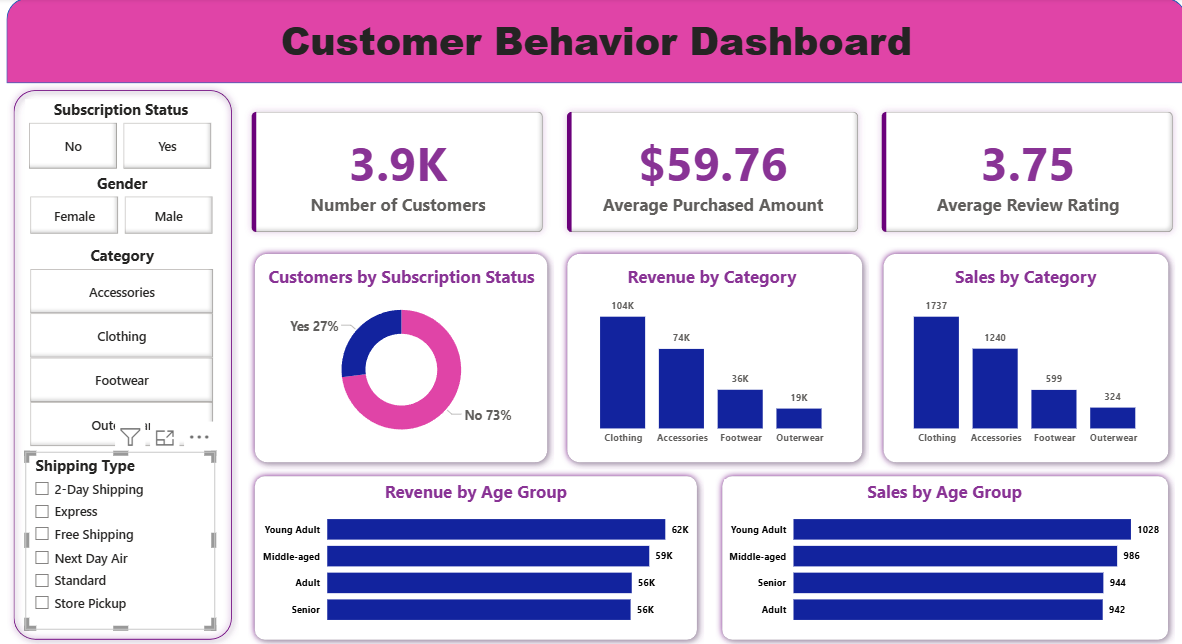

This screenshot's page, from the dashboard's own definition file:
{"tool":"powerbi","page":{"name":"Page 1","canvas":[1500,820],"ordinal":0},"visuals":[{"type":"shape","box":[9.6,0,1490.7,107.7],"z":0},{"type":"textbox","box":[9.6,14.5,1490.7,82],"z":1000},{"type":"cardVisual","fields":{"Data":["Measure Table (2).Number of Customers","Measure Table (2).Average Purchased Amount","Measure Table (2).Average Review Rating"]},"box":[303.9,128.6,1196.4,184.9],"z":2000},{"type":"shape","box":[313.6,313.6,387.5,281.4],"z":3000},{"type":"donutChart","title":"Customers by Subscription Status","fields":{"Category":["customer_behaviour customers.subscription_status"],"Y":["Count(customer_behaviour customers.customer_id)"]},"box":[331.3,336.1,353.8,238],"z":4000},{"type":"shape","box":[709.2,313.6,390.8,281.4],"z":5000},{"type":"shape","box":[1108,313.6,377.9,281.4],"z":6000},{"type":"clusteredColumnChart","title":"Revenue by Category","fields":{"Category":["customer_behaviour customers.category"],"Y":["Sum(customer_behaviour customers.purchase_amount)"]},"box":[725.6,335.9,351.7,237.6],"z":7000},{"type":"clusteredColumnChart","title":"Sales by Category","fields":{"Category":["customer_behaviour customers.category"],"Y":["Count(customer_behaviour customers.customer_id)"]},"box":[1121.7,335.9,351.7,237.6],"z":8000},{"type":"shape","box":[9.5,107.4,293.7,712.3],"z":9000},{"type":"advancedSlicerVisual","fields":{"Values":["customer_behaviour customers.subscription_status"]},"box":[33.2,127.9,241.6,93.2],"z":9001},{"type":"advancedSlicerVisual","fields":{"Values":["customer_behaviour customers.gender"]},"box":[34.7,221.1,241.6,82.1],"z":9002},{"type":"advancedSlicerVisual","fields":{"Values":["customer_behaviour customers.category"]},"box":[34.7,312.7,241.6,260.6],"z":9003},{"type":"slicer","fields":{"Values":["customer_behaviour customers.shipping_type"]},"box":[33.2,573.3,240.1,224.3],"z":9004},{"type":"shape","box":[314.3,595.4,576.4,224.3],"z":9005},{"type":"shape","box":[904.9,595.4,581.2,224.3],"z":9006},{"type":"clusteredBarChart","title":"Revenue by Age Group","fields":{"Category":["customer_behaviour customers.age_group"],"Y":["Sum(customer_behaviour customers.purchase_amount)"]},"box":[326.9,608,551.2,197.4],"z":9007},{"type":"clusteredBarChart","title":"Sales by Age Group","fields":{"Category":["customer_behaviour customers.age_group"],"Y":["Count(customer_behaviour customers.customer_id)"]},"box":[916,608,557.5,197.4],"z":9008}]}

Visuals, with their boxes in screenshot pixels (x1, y1, x2, y2), scaled from the page's 1500x820 canvas onto the 1182x644 screenshot:
shape: (x1=8, y1=0, x2=1181, y2=85)
textbox: (x1=8, y1=11, x2=1181, y2=76)
cardVisual - Measure Table (2).Number of Customers x Measure Table (2).Average Purchased Amount: (x1=239, y1=101, x2=1181, y2=246)
shape: (x1=247, y1=246, x2=552, y2=467)
"Customers by Subscription Status" donutChart: (x1=261, y1=264, x2=540, y2=451)
shape: (x1=559, y1=246, x2=867, y2=467)
shape: (x1=873, y1=246, x2=1171, y2=467)
"Revenue by Category" clusteredColumnChart: (x1=572, y1=264, x2=849, y2=450)
"Sales by Category" clusteredColumnChart: (x1=884, y1=264, x2=1161, y2=450)
shape: (x1=7, y1=84, x2=239, y2=643)
advancedSlicerVisual - customer_behaviour customers.subscription_status: (x1=26, y1=100, x2=217, y2=174)
advancedSlicerVisual - customer_behaviour customers.gender: (x1=27, y1=174, x2=218, y2=238)
advancedSlicerVisual - customer_behaviour customers.category: (x1=27, y1=246, x2=218, y2=450)
slicer - customer_behaviour customers.shipping_type: (x1=26, y1=450, x2=215, y2=626)
shape: (x1=248, y1=468, x2=702, y2=643)
shape: (x1=713, y1=468, x2=1171, y2=643)
"Revenue by Age Group" clusteredBarChart: (x1=258, y1=478, x2=692, y2=633)
"Sales by Age Group" clusteredBarChart: (x1=722, y1=478, x2=1161, y2=633)
